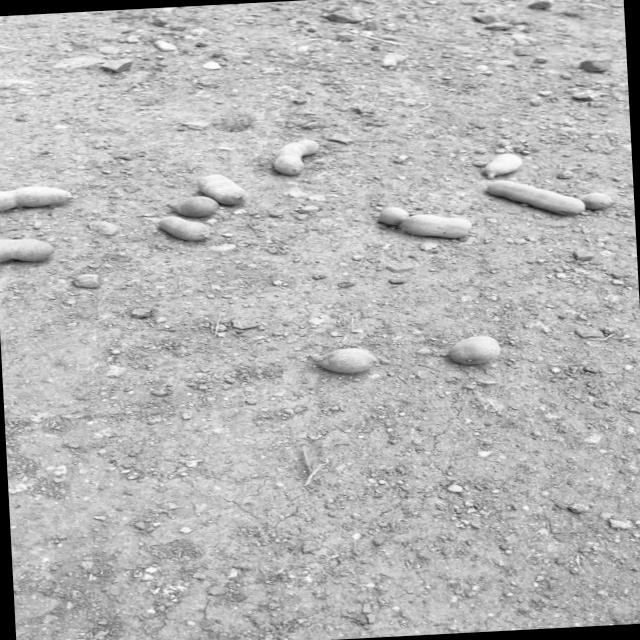tamarind: (478, 170, 586, 221), (369, 200, 474, 243), (301, 345, 381, 379), (436, 332, 512, 366), (192, 168, 252, 210), (268, 135, 322, 179), (0, 183, 90, 208), (144, 210, 210, 244), (0, 234, 68, 263), (478, 148, 524, 175)
